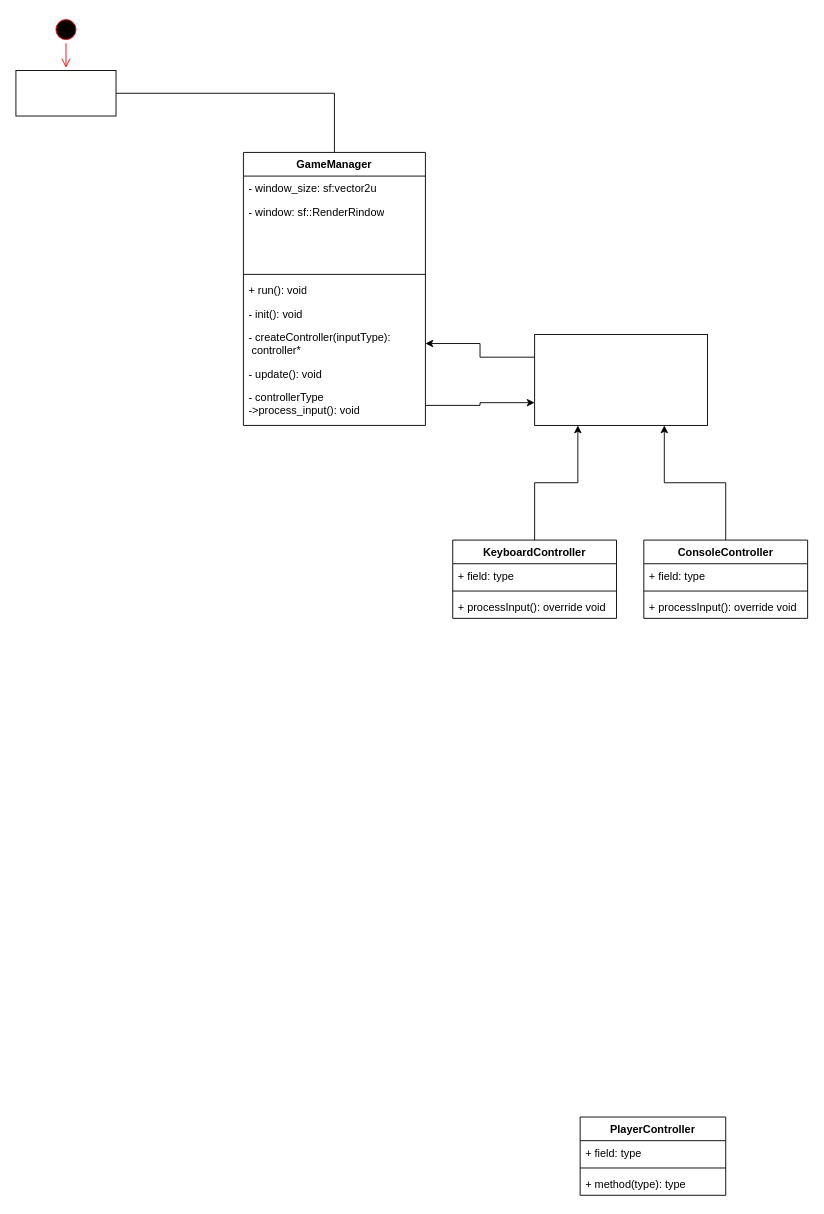
The diagram is 824 pixels wide and 1214 high, and some of its shapes have lost their labels. The shapes that lost their labels are listed below. From the top down, each one's centre as x and y in pixels, then its label:
At pixel 65 93: "main".
At pixel 621 379: "<<Interface>> Controller + field1: Type + processInput(): virtual void".
